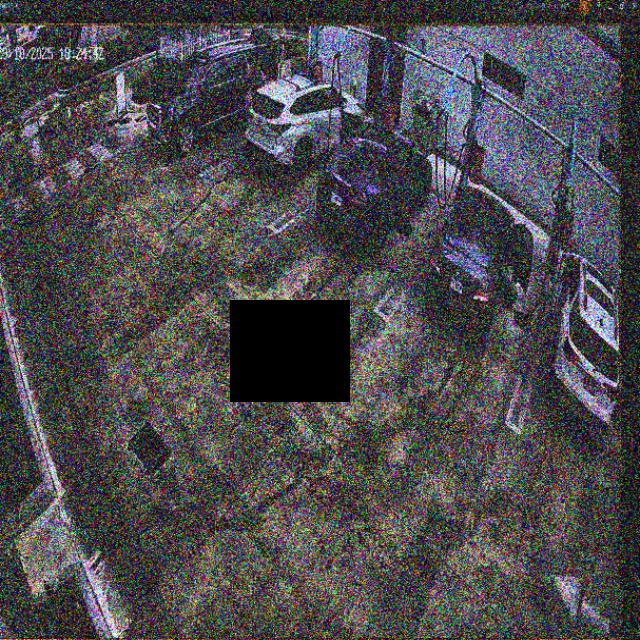Car: (318, 123, 430, 251), (426, 184, 528, 321), (247, 76, 363, 174)
